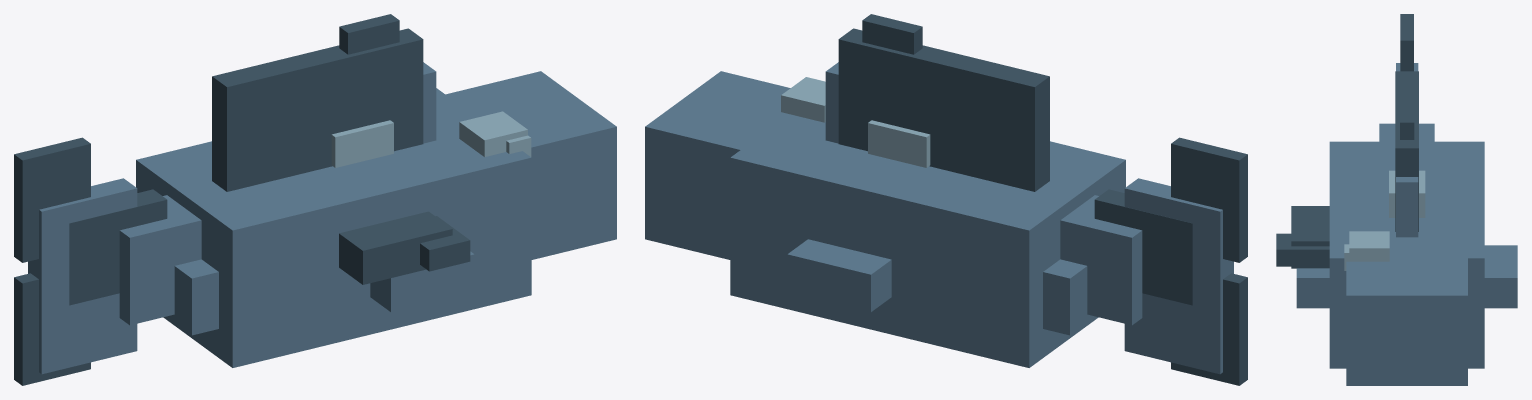
The model's file is fish_gale_herring.glb.
3 renders of one model, left to right at view 1: azimuth 30°, elevation 25°; view 2: azimuth 150°, elevation 25°; view 3: azimuth 270°, elevation 25°, orthographic. The views are drawn at different scales.
Visible parts, largest first — view 1: FishArt_body, FishArt_dorsal, FishArt_tail, FishArt_pectoral, FishArt_eye, FishArt_specialty; view 2: FishArt_body, FishArt_dorsal, FishArt_tail, FishArt_specialty, FishArt_eye; view 3: FishArt_body, FishArt_pectoral, FishArt_dorsal, FishArt_eye, FishArt_tail, FishArt_specialty.
Boxes of the visible parts, x1,y1,x2,y2 form: FishArt_body: [28, 62, 616, 374]; FishArt_dorsal: [212, 14, 423, 191]; FishArt_tail: [14, 137, 167, 385]; FishArt_pectoral: [339, 211, 470, 284]; FishArt_eye: [459, 111, 531, 156]; FishArt_specialty: [331, 120, 393, 167]; FishArt_body: [645, 62, 1233, 374]; FishArt_dorsal: [838, 14, 1049, 191]; FishArt_tail: [1094, 137, 1247, 385]; FishArt_specialty: [868, 120, 930, 167]; FishArt_eye: [781, 77, 825, 122]; FishArt_body: [1296, 63, 1517, 385]; FishArt_pectoral: [1276, 206, 1329, 268]; FishArt_dorsal: [1395, 71, 1418, 231]; FishArt_eye: [1344, 231, 1389, 270]; FishArt_tail: [1400, 14, 1413, 71]; FishArt_specialty: [1389, 170, 1425, 217].
Size of the model in its own units: 0.3091 by 0.1442 by 0.1439.
